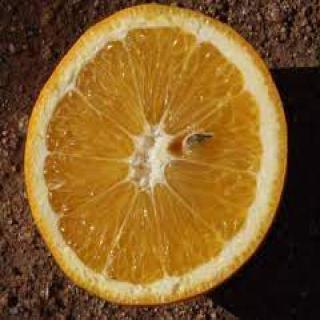orange: (18, 2, 298, 316)
